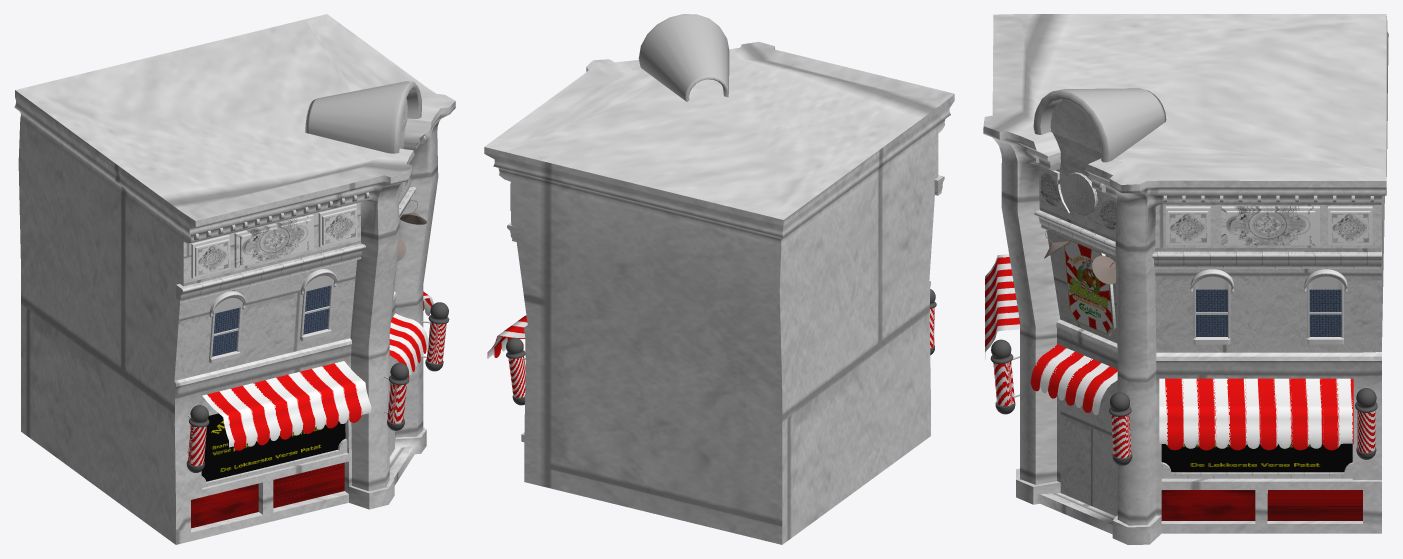
Rendered from main_house.fbx.
3 views of the same model, side by side, from view 1: azimuth 30°, elevation 25°; view 2: azimuth 150°, elevation 25°; view 3: azimuth 270°, elevation 25° (orthographic). The views are drawn at different scales.
Parts seen in each view (by area): view 1: polySurface23, pPlane3, pPipe1, polySurface10, polySurface2, polySurface17, polySurface15, polySurface16, pPlane4, polySurface130, polySurface18, pPlane8 (+7 smaller); view 2: polySurface23, pPipe1, pPlane5, polySurface150; view 3: polySurface23, pPlane5, pPipe1, polySurface8, polySurface141, polySurface20, pPlane4, pCube23, polySurface12, polySurface13, pPlane3, polySurface131 (+14 smaller).
Boxes of the visible parts, x1=… form: polySurface23: x1=14, y1=14, x2=455, y2=544; pPlane3: x1=202, y1=361, x2=371, y2=450; pPipe1: x1=305, y1=81, x2=421, y2=153; polySurface10: x1=201, y1=413, x2=345, y2=481; polySurface2: x1=176, y1=243, x2=365, y2=302; polySurface17: x1=234, y1=214, x2=314, y2=268; polySurface15: x1=273, y1=462, x2=344, y2=508; polySurface16: x1=191, y1=483, x2=258, y2=528; pPlane4: x1=389, y1=313, x2=428, y2=377; polySurface130: x1=191, y1=235, x2=230, y2=278; polySurface18: x1=318, y1=204, x2=357, y2=247; pPlane8: x1=303, y1=285, x2=330, y2=334; polySurface23: x1=484, y1=42, x2=954, y2=544; pPipe1: x1=638, y1=14, x2=729, y2=101; pPlane5: x1=487, y1=315, x2=527, y2=358; polySurface150: x1=508, y1=356, x2=525, y2=397; polySurface23: x1=983, y1=14, x2=1388, y2=544; pPlane5: x1=1159, y1=378, x2=1353, y2=450; pPipe1: x1=1033, y1=88, x2=1166, y2=162; polySurface8: x1=1161, y1=443, x2=1352, y2=472; polySurface141: x1=1152, y1=250, x2=1381, y2=268; polySurface20: x1=1221, y1=206, x2=1319, y2=245; pPlane4: x1=1030, y1=344, x2=1117, y2=415; pCube23: x1=1063, y1=239, x2=1116, y2=335; polySurface12: x1=1267, y1=490, x2=1362, y2=520; polySurface13: x1=1161, y1=490, x2=1255, y2=520; pPlane3: x1=985, y1=254, x2=1019, y2=359; polySurface131: x1=1328, y1=206, x2=1372, y2=245.
Bounding box in the file's own units: 0.48 × 0.5529 × 0.4747.
